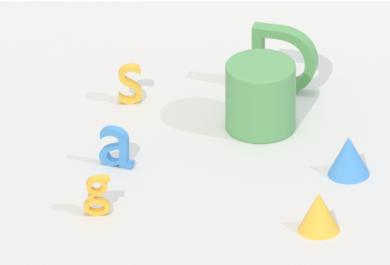0-KhoiTru: (221, 48, 300, 146)
0-TamGiac: (323, 134, 374, 190), (292, 191, 344, 245)
S: (113, 60, 150, 108)
a: (96, 122, 138, 172)
g: (81, 173, 113, 218)
